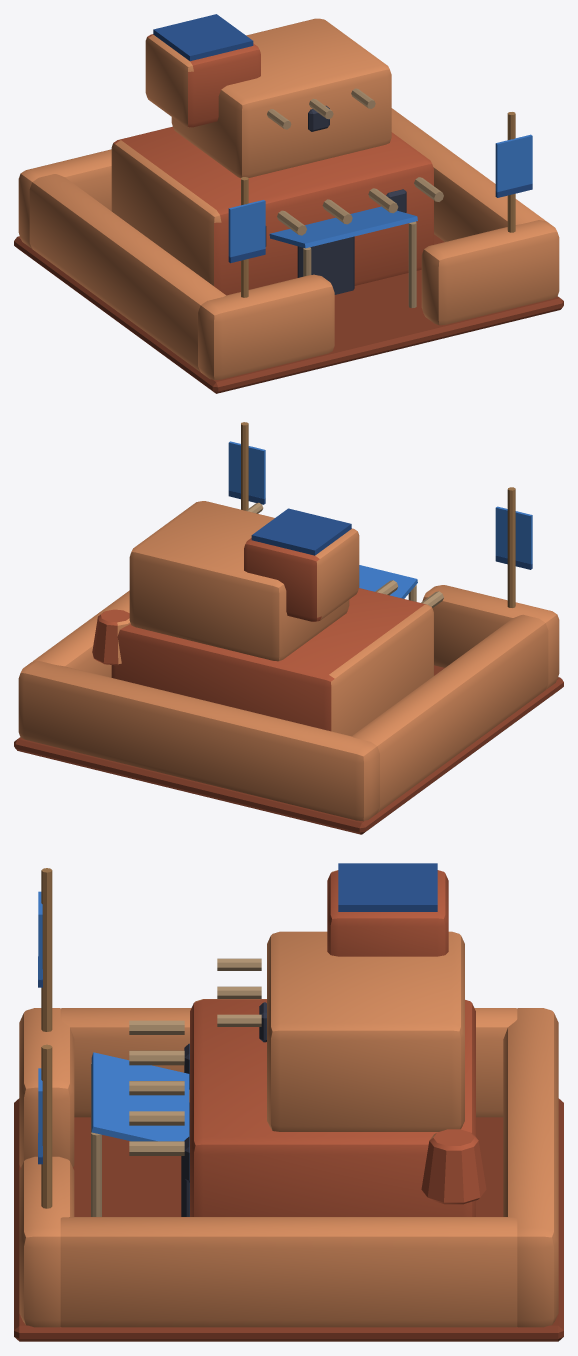
File: HQ_Canyon.fbx
The picture shows the model from 3 angles, top to bottom: view 1: azimuth 30°, elevation 25°; view 2: azimuth 150°, elevation 25°; view 3: azimuth 270°, elevation 25°; orthographic projection. The views are drawn at different scales.
Parts seen in each view (by area): view 1: HQ_Canyon; view 2: HQ_Canyon; view 3: HQ_Canyon.
Boxes of the visible parts, x1=… form: HQ_Canyon: x1=14, y1=14, x2=563, y2=393; HQ_Canyon: x1=14, y1=422, x2=563, y2=834; HQ_Canyon: x1=14, y1=863, x2=563, y2=1341.
Size of the model in its own units: 5 by 3.12 by 5.
